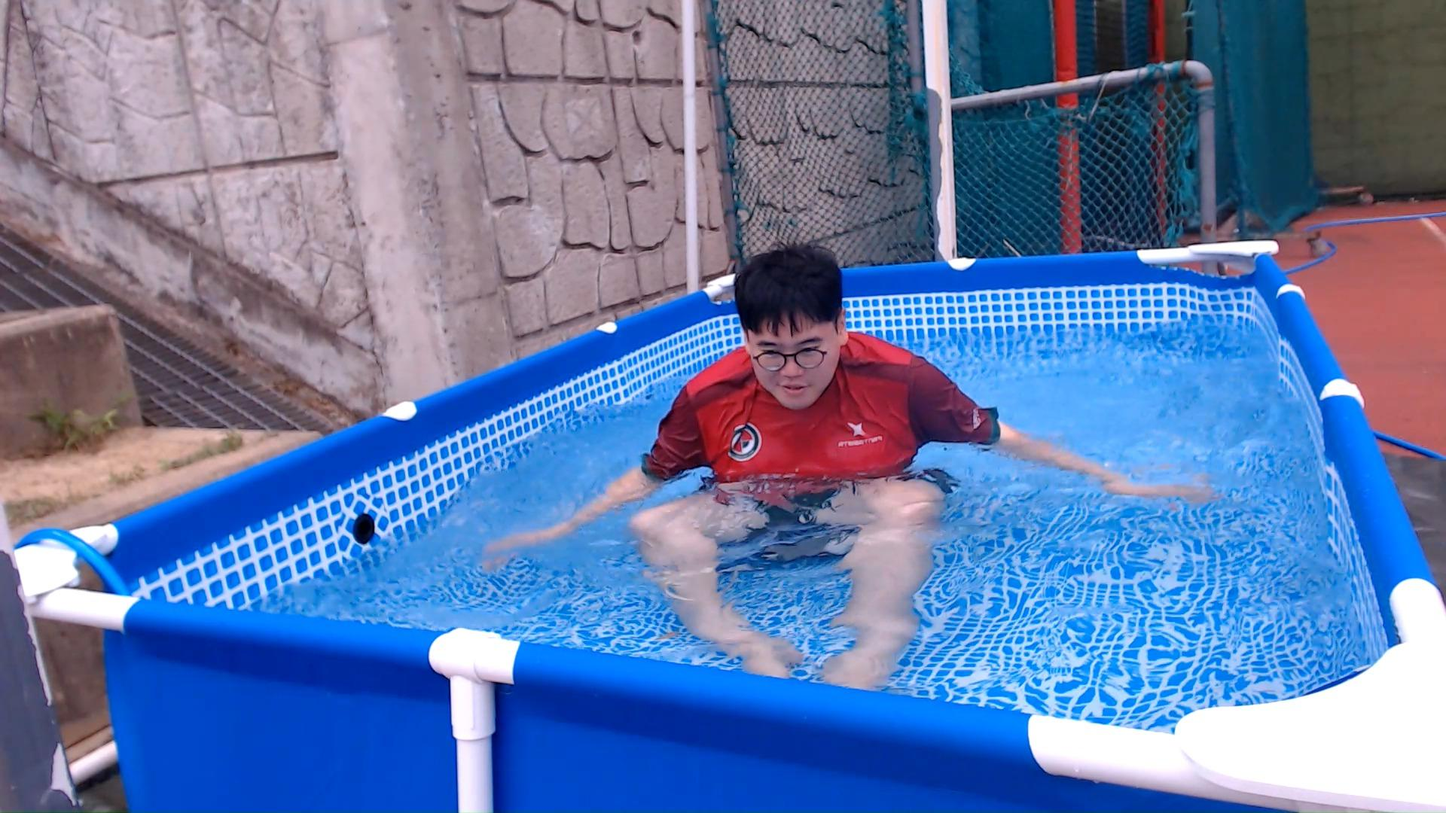Swimming: (461, 210, 1228, 655)
